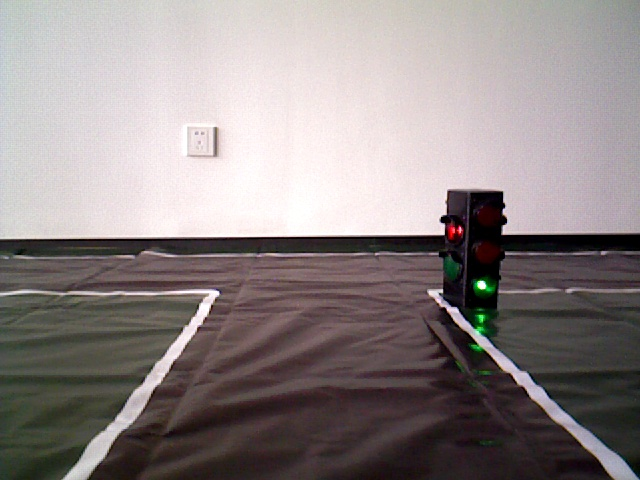green: (442, 193, 502, 308)
